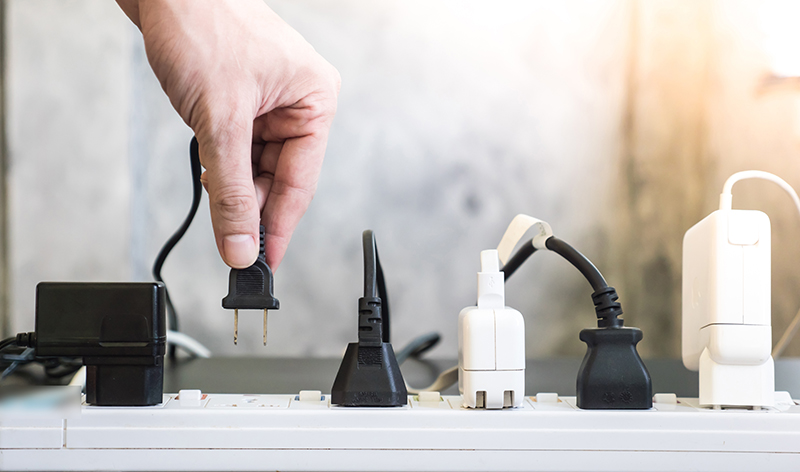Three_eye_plug: (1, 362, 800, 472)
